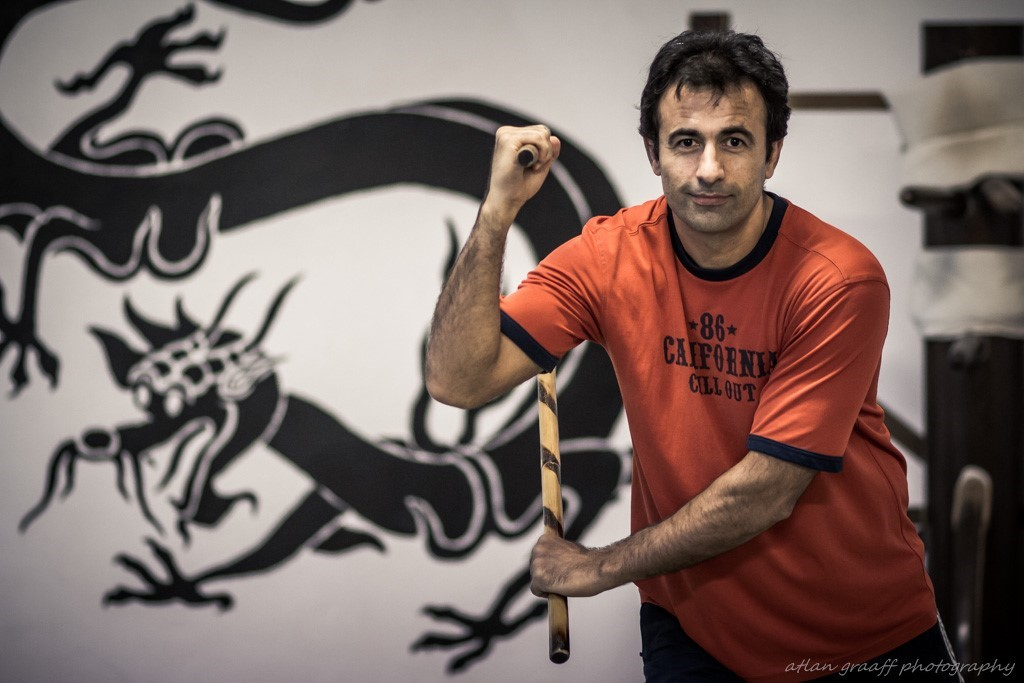baston_e: (531, 379, 574, 646)
baston_v: (545, 614, 576, 668), (508, 139, 546, 172)
